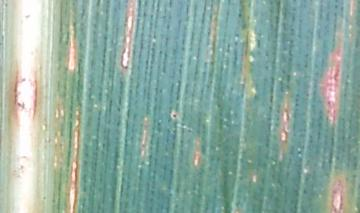tarspot: (171, 112, 178, 119)
